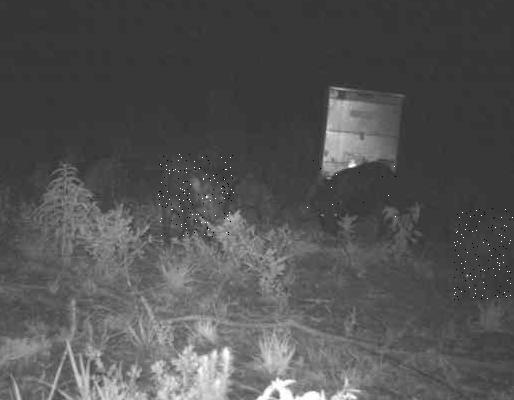Hog: (306, 159, 396, 236), (158, 154, 234, 237), (454, 207, 514, 300)
